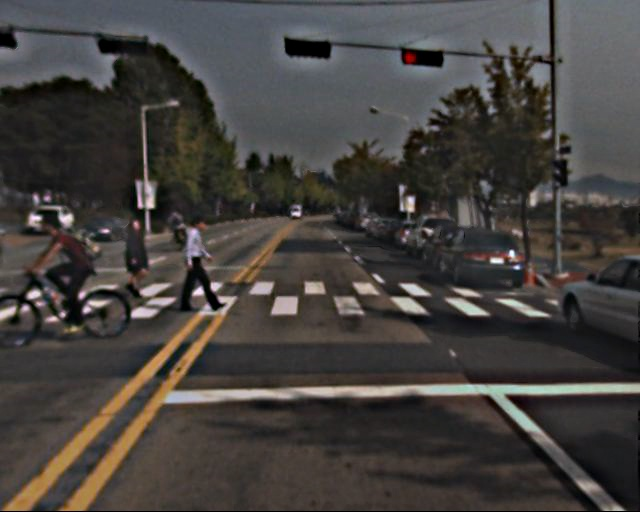person: (38, 211, 107, 330), (176, 210, 221, 311), (119, 217, 152, 298)
